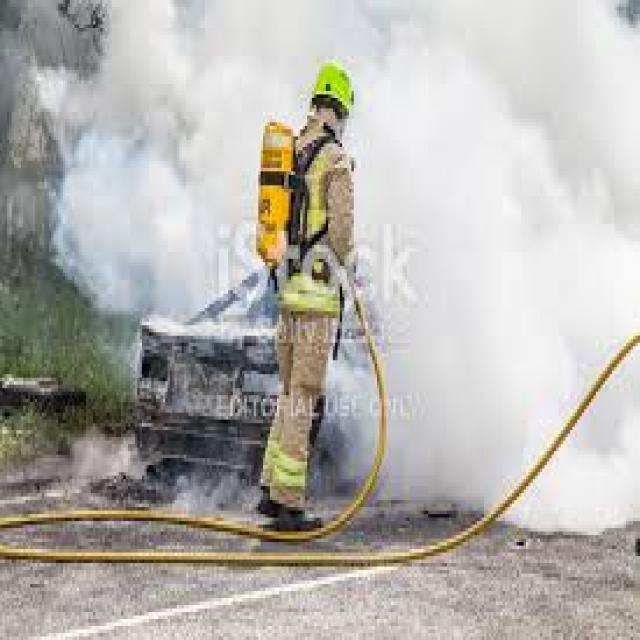Smoke: (395, 0, 640, 520), (44, 44, 206, 304)
